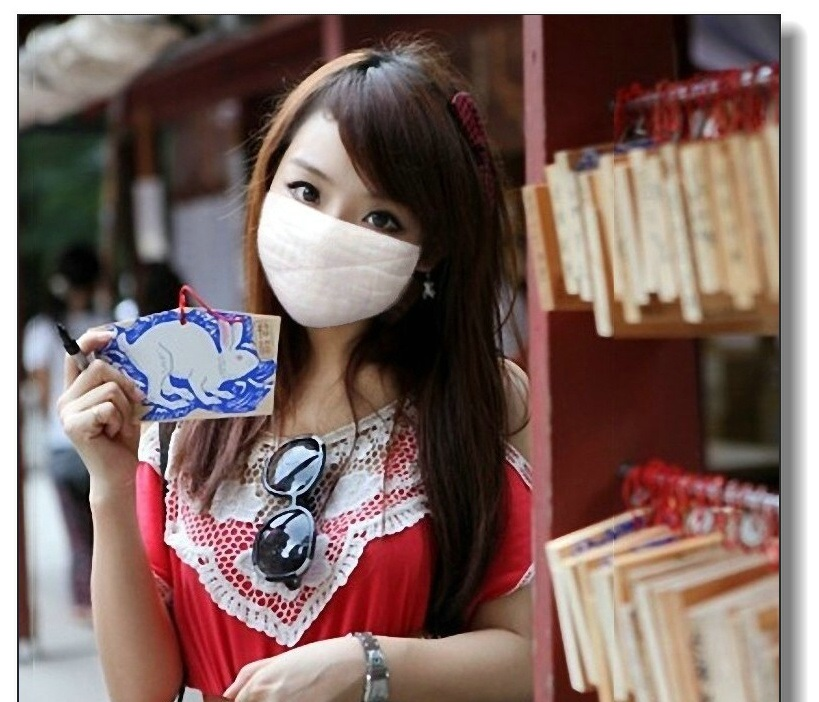face_mask: (258, 113, 431, 324)
